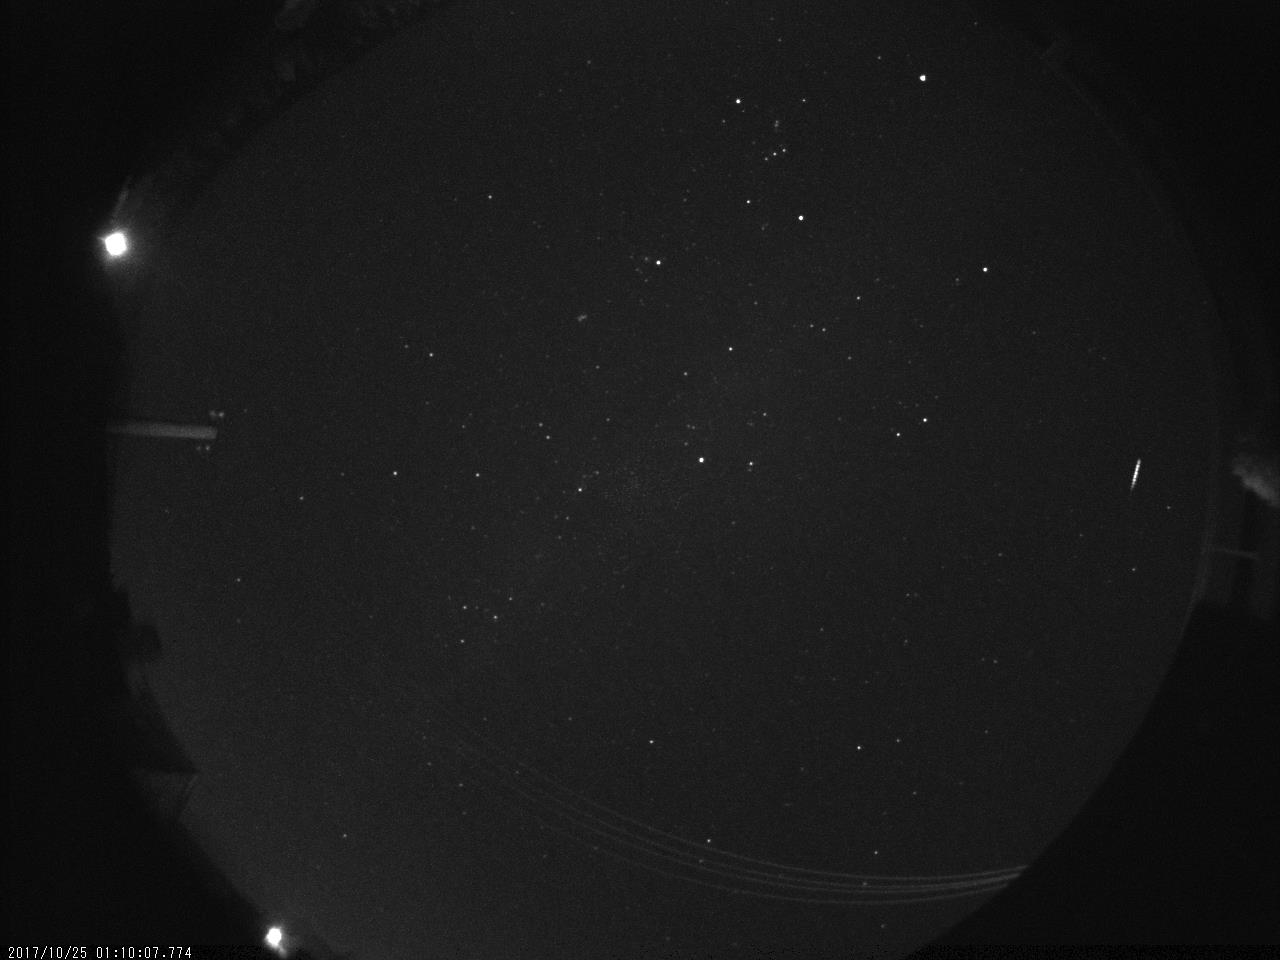meteor: (1112, 444, 1151, 502)
